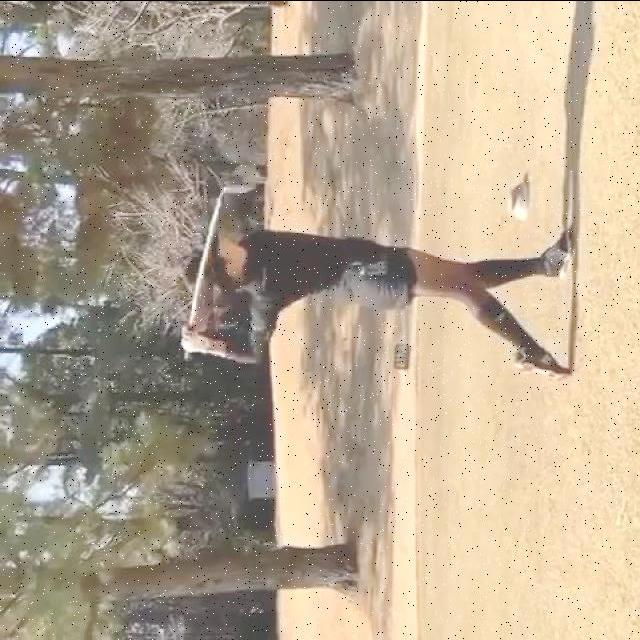golf club-handle: (184, 161, 258, 360)
golf club-head: (221, 162, 258, 193)
